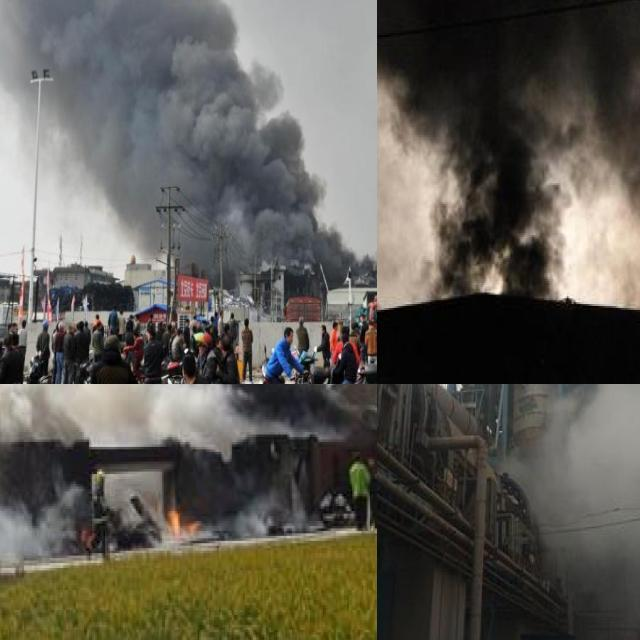fire: (164, 499, 198, 536), (74, 521, 97, 551)
smoke: (0, 0, 377, 281), (377, 0, 640, 312), (0, 384, 350, 568), (536, 392, 614, 504), (560, 384, 640, 492)
